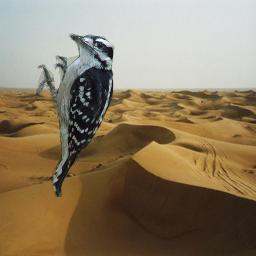Woodpecker: (36, 32, 124, 197)
